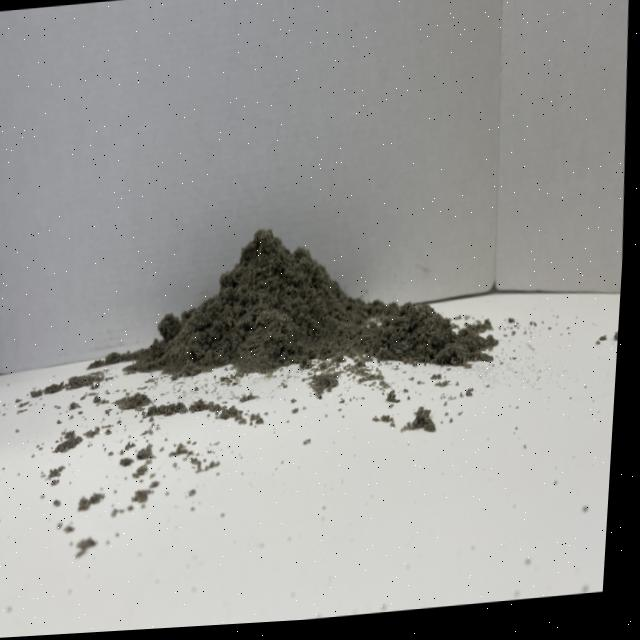sand: (131, 199, 464, 407)
